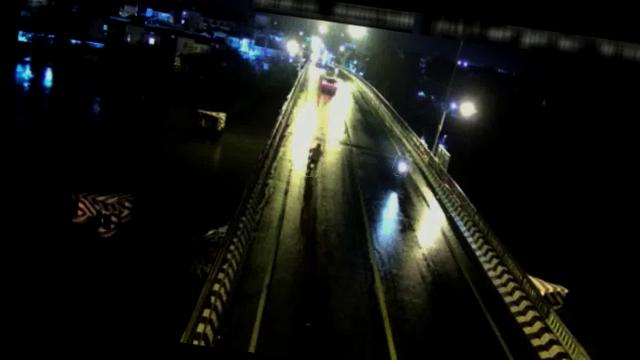Bike: (306, 139, 324, 178), (391, 154, 410, 178)
